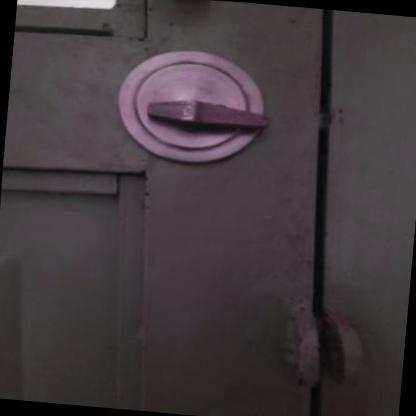lock: (97, 35, 356, 181)
